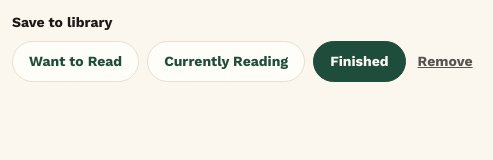
Scenario: ShelfSelector — signed in, book already on a shelf › shows an alert when removal fails
Step 1. Click the button "Remove" → (445, 62), box [414,42,476,81]
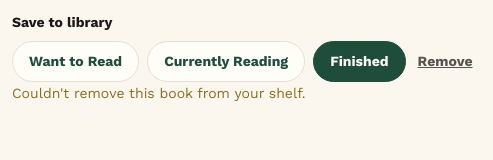
Check: the message shows "Couldn't remove", box [12,85,306,101]
